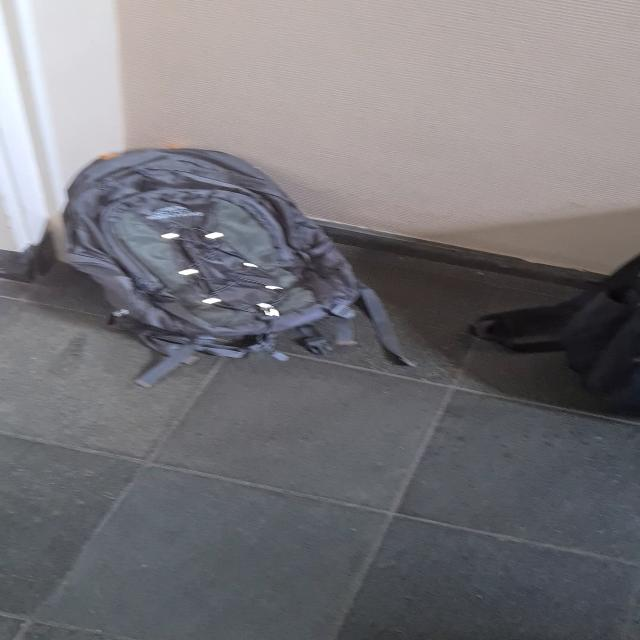backpack: (38, 139, 376, 367), (538, 253, 640, 405)
